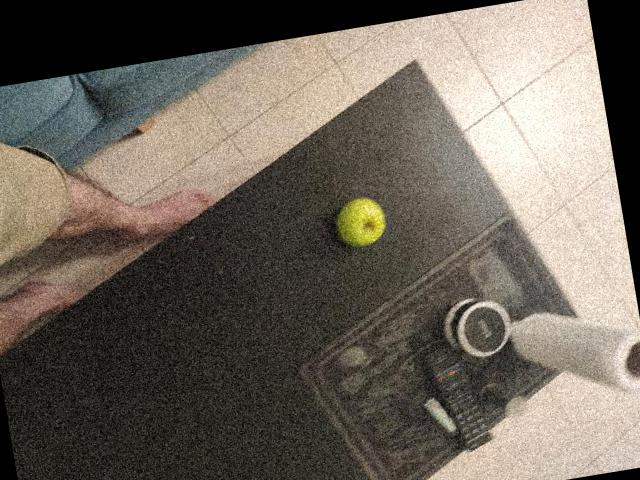apple: (394, 194, 460, 270)
